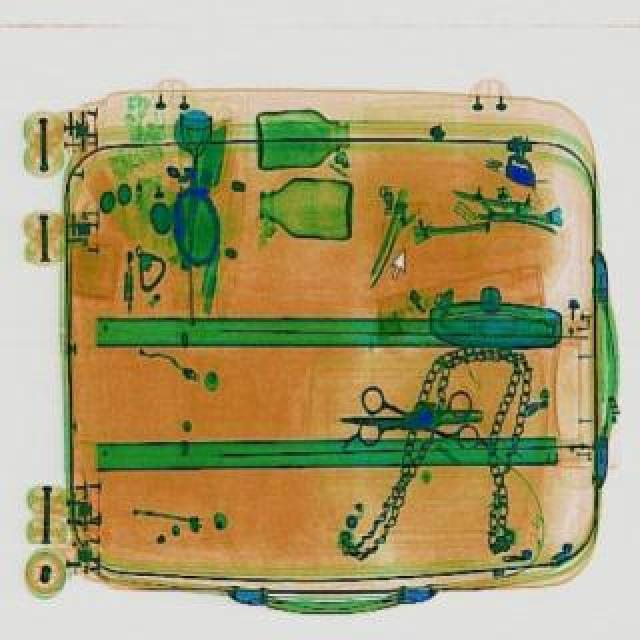pliers: (344, 388, 484, 452), (358, 380, 488, 444)
